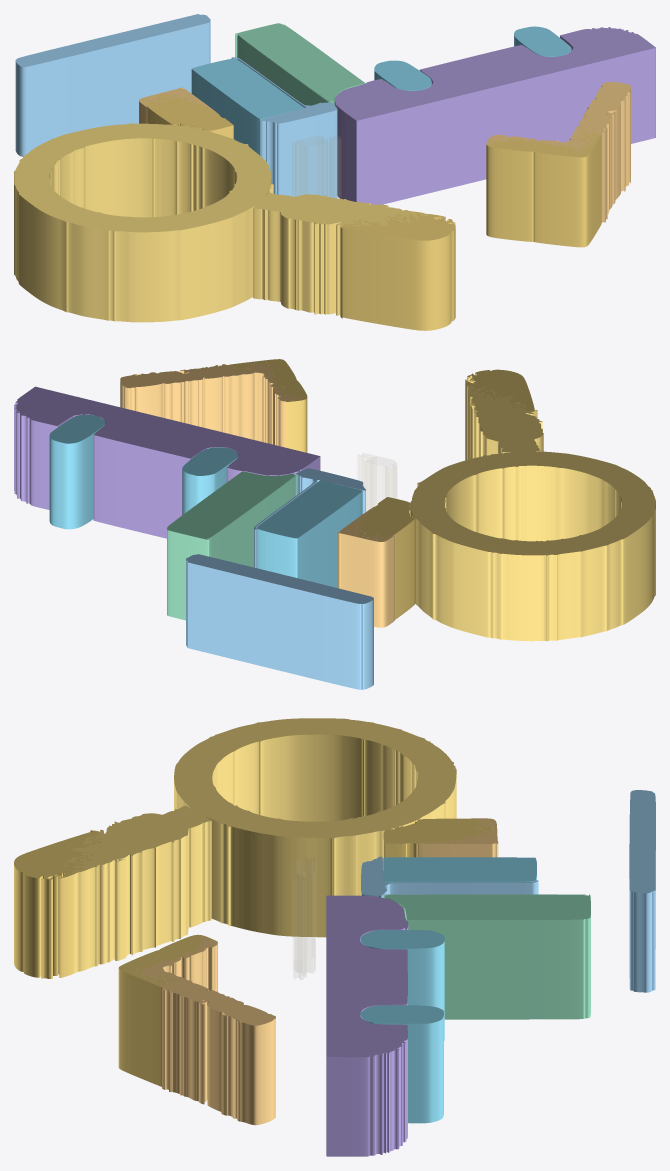
3 renders of one model, top to bottom at view 1: azimuth 30°, elevation 25°; view 2: azimuth 150°, elevation 25°; view 3: azimuth 270°, elevation 25°, orthographic. The views are drawn at different scales.
Visible parts, largest first — view 1: Node1, Node2, Node10, Node6, Node8, Node11, Node9, Node3, Node12, Node7, Node19, Node18 (+3 smaller); view 2: Node1, Node2, Node10, Node12, Node9, Node3, Node5, Node13, Node7, Node19, Node8, Node4 (+3 smaller); view 3: Node1, Node9, Node2, Node12, Node6, Node8, Node10, Node5, Node3, Node4, Node11, Node7 (+2 smaller).
Part boxes in pixels (box(x1,y1,x2,y2)): Node1: box(14, 123, 430, 322); Node2: box(335, 27, 655, 204); Node10: box(15, 14, 210, 156); Node6: box(342, 213, 455, 330); Node8: box(486, 131, 601, 247); Node11: box(231, 57, 337, 198); Node9: box(235, 23, 365, 105); Node3: box(191, 58, 303, 154); Node12: box(488, 82, 630, 222); Node7: box(142, 94, 233, 138); Node19: box(237, 36, 331, 105); Node18: box(295, 137, 340, 198); Node1: box(410, 385, 655, 641); Node2: box(14, 386, 320, 538); Node10: box(186, 554, 373, 689); Node12: box(120, 363, 301, 447); Node9: box(167, 471, 294, 620); Node3: box(257, 480, 362, 587); Node5: box(49, 414, 105, 529); Node13: box(337, 507, 394, 627); Node7: box(353, 497, 414, 619); Node19: box(211, 474, 298, 567); Node8: box(229, 359, 307, 452); Node4: box(182, 447, 237, 514); Node1: box(65, 718, 456, 973); Node9: box(384, 894, 590, 1019); Node2: box(326, 895, 408, 1156); Node12: box(134, 936, 275, 1125); Node6: box(14, 831, 102, 978); Node8: box(118, 934, 217, 1086); Node10: box(629, 790, 655, 992); Node5: box(360, 1005, 443, 1123); Node3: box(383, 857, 536, 882); Node4: box(360, 930, 444, 1040); Node11: box(361, 856, 538, 897); Node7: box(383, 818, 493, 857).
Size of what is drawn, in the model's own units: 2.88 by 0.3937 by 2.3.
